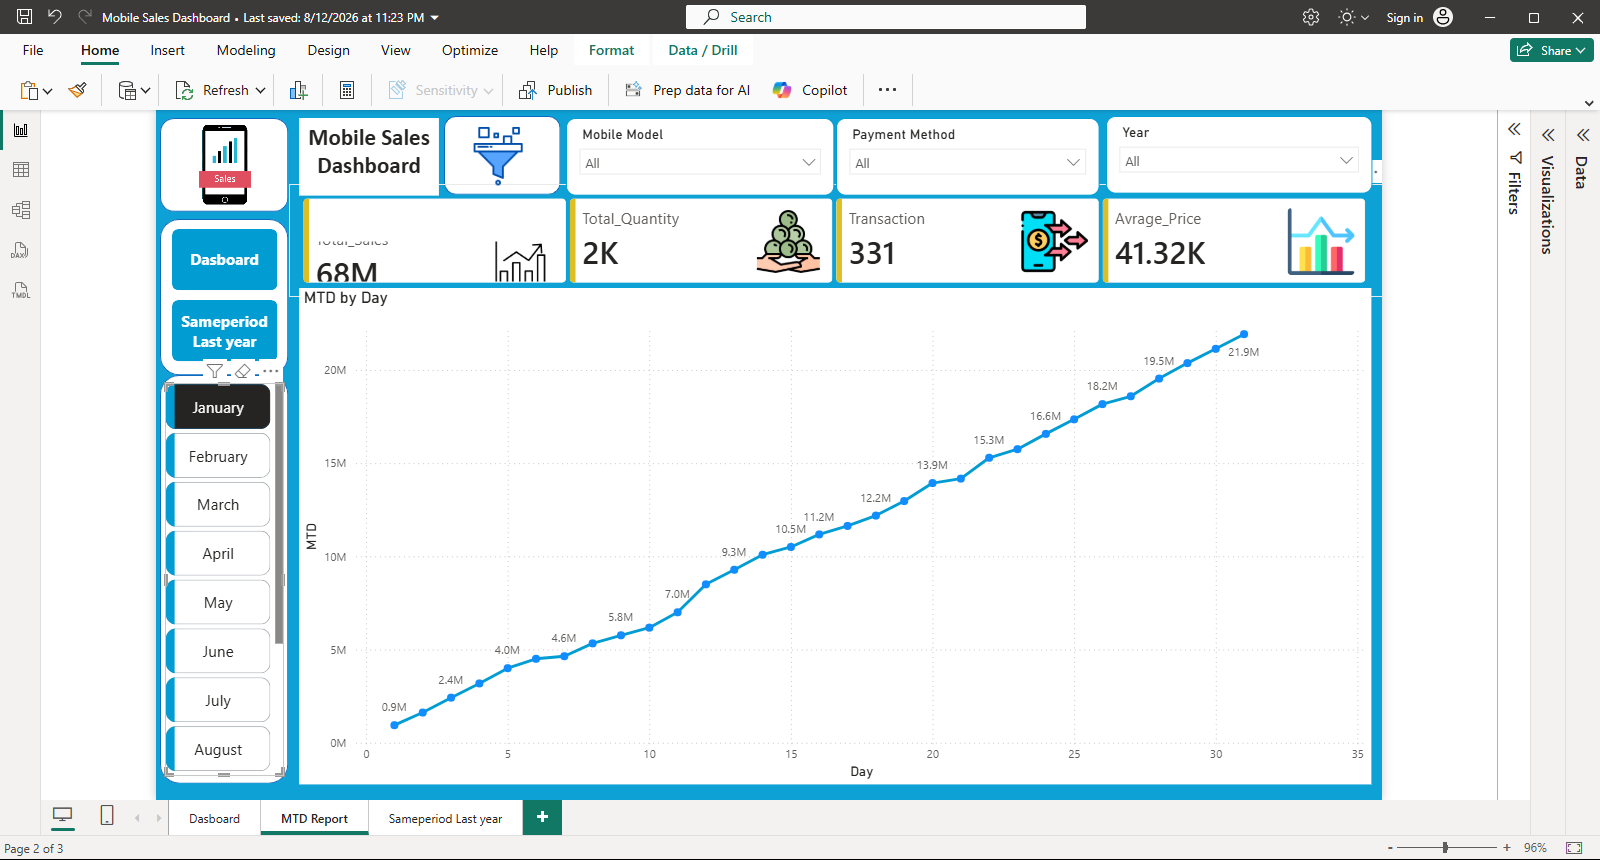

The dashboard page shown, as its layout file describes it:
{"tool":"powerbi","page":{"name":"MTD Report","canvas":[1280,720],"ordinal":1},"visuals":[{"type":"shape","box":[300.4,6.8,121.5,82.1],"z":0},{"type":"shape","box":[4.6,7.9,133.9,97.9],"z":1000},{"type":"shape","box":[4.6,113.6,133.9,163.1],"z":3000},{"type":"cardVisual","fields":{"Data":["Sales_Data.Total_Sales","Sales_Data.Total_Quantity","Sales_Data.Transaction","Sales_Data.Avrage_Price"]},"box":[138.8,77.1,1141.2,118.2],"z":4000},{"type":"slicer","fields":{"Values":["Sales_Data.Mobile Model"]},"box":[427.5,7.9,280.1,81],"z":5000},{"type":"slicer","fields":{"Values":["Sales_Data.Payment Method"]},"box":[709.9,7.9,274.5,81],"z":6000},{"type":"slicer","fields":{"Values":["Custom_Calendar.Date.Variation.Date Hierarchy.Year"]},"box":[990.8,6.4,277.6,81],"z":7000},{"type":"image","box":[300.4,16.9,112.5,63],"z":8000},{"type":"textbox","box":[149.6,7.9,146.2,81],"z":9000},{"type":"lineChart","fields":{"Category":["Custom_Calendar.Date.Variation.Date Hierarchy.Day"],"Y":["Sales_Data.MTD"]},"box":[149.6,185.6,1119.4,517.5],"z":10000},{"type":"shape","box":[4.5,276.8,133.9,426.4],"z":11000},{"type":"advancedSlicerVisual","fields":{"Values":["Custom_Calendar.Date.Variation.Date Hierarchy.Month"]},"box":[9,284.6,124.9,410.6],"z":12000},{"type":"pageNavigator","box":[16.9,123.8,110.2,138.4],"z":13000},{"type":"image","box":[10.1,15.8,122.6,83.2],"z":13001}]}

Visuals, with their boxes on the page's 1280x720 design canvas (x1, y1, x2, y2). These are canvas units, not pixel positions in the 1600x860 screenshot, which may show the page scaled, cropped or inside an application window:
shape: x1=300, y1=7, x2=422, y2=89
shape: x1=5, y1=8, x2=138, y2=106
shape: x1=5, y1=114, x2=138, y2=277
cardVisual - Sales_Data.Total_Sales x Sales_Data.Total_Quantity: x1=139, y1=77, x2=1280, y2=195
slicer - Sales_Data.Mobile Model: x1=428, y1=8, x2=708, y2=89
slicer - Sales_Data.Payment Method: x1=710, y1=8, x2=984, y2=89
slicer - Custom_Calendar.Date.Variation.Date Hierarchy.Year: x1=991, y1=6, x2=1268, y2=87
image: x1=300, y1=17, x2=413, y2=80
textbox: x1=150, y1=8, x2=296, y2=89
lineChart - Custom_Calendar.Date.Variation.Date Hierarchy.Day x Sales_Data.MTD: x1=150, y1=186, x2=1269, y2=703
shape: x1=4, y1=277, x2=138, y2=703
advancedSlicerVisual - Custom_Calendar.Date.Variation.Date Hierarchy.Month: x1=9, y1=285, x2=134, y2=695
pageNavigator: x1=17, y1=124, x2=127, y2=262
image: x1=10, y1=16, x2=133, y2=99
